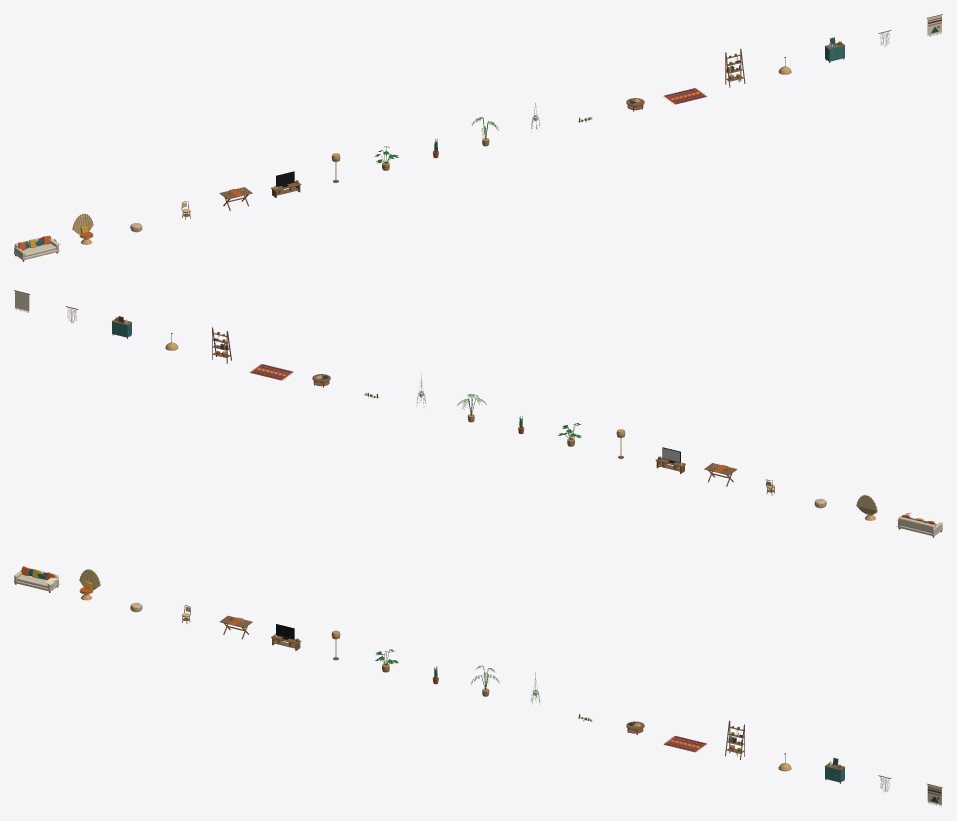
Rendered from Boho.glb.
The picture shows the model from 3 angles, top to bottom: view 1: azimuth 30°, elevation 25°; view 2: azimuth 150°, elevation 25°; view 3: azimuth 330°, elevation 25°; orthographic projection.
Visible parts, largest first — view 1: Sofa; view 2: Sofa; view 3: Sofa.
Boxes of the visible parts, x1,y1,x2,y2 form: Sofa: [14, 235, 60, 261]; Sofa: [896, 512, 942, 537]; Sofa: [14, 566, 60, 592].
Bounding box in the file's own units: 278 × 10.54 × 8.09.
